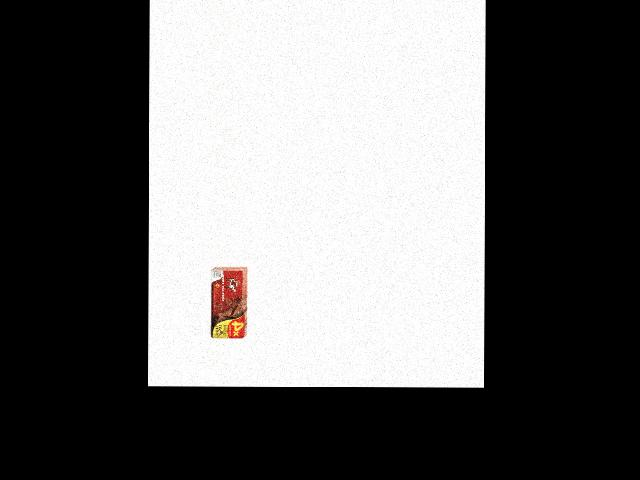chocolate: (209, 268, 247, 339)
